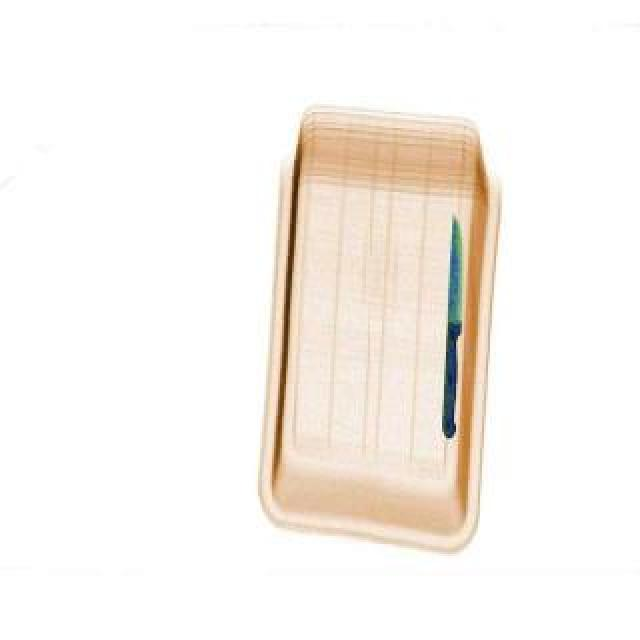knife: (442, 214, 462, 438)
